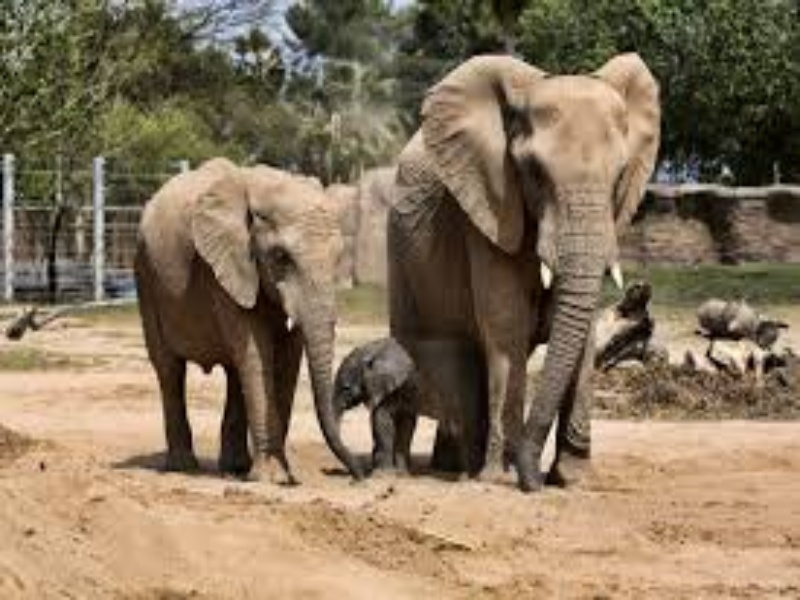elephant: (379, 34, 689, 497), (124, 137, 365, 502)
